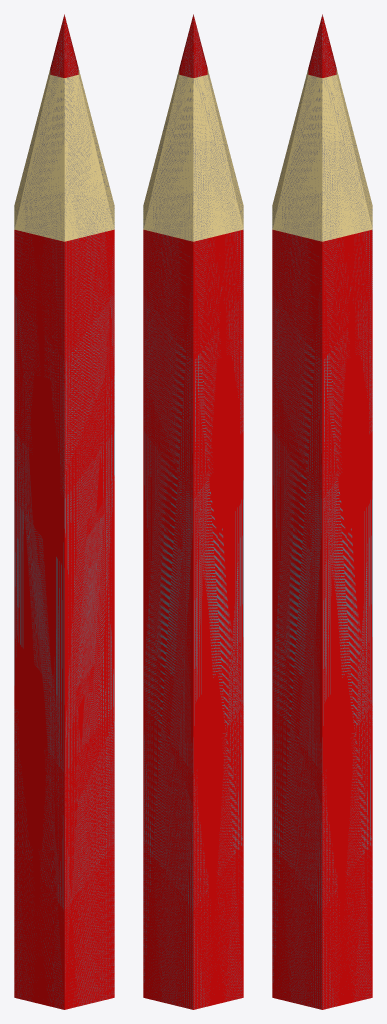
3 views of the same model, side by side, from view 1: azimuth 30°, elevation 25°; view 2: azimuth 150°, elevation 25°; view 3: azimuth 330°, elevation 25° (orthographic).
Parts seen in each view (by area): view 1: SketchUp (×3); view 2: SketchUp (×3); view 3: SketchUp (×3).
Part boxes in pixels (box(x1,y1,x2,y2)): SketchUp (×3): box(14, 14, 114, 1009); SketchUp (×3): box(143, 14, 243, 1009); SketchUp (×3): box(272, 14, 372, 1009).
Size of the model in its own units: 47.24 by 40.91 by 438.
